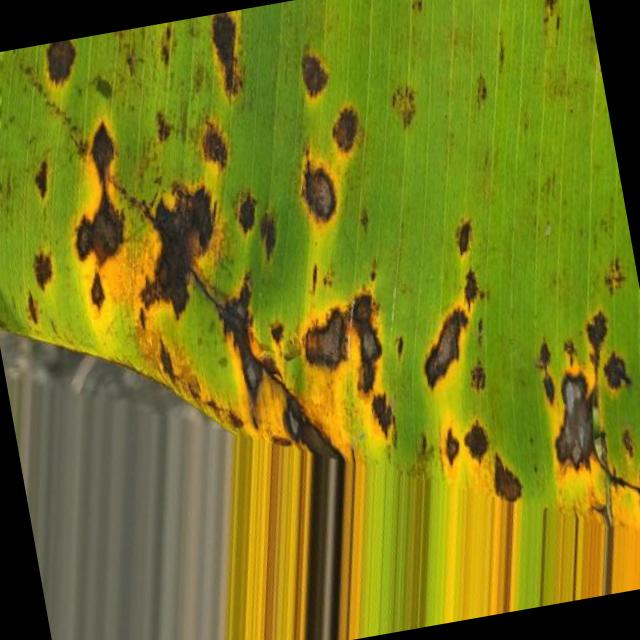Banana_Yellow_Sigatoka: (0, 0, 391, 496), (403, 248, 640, 555)
